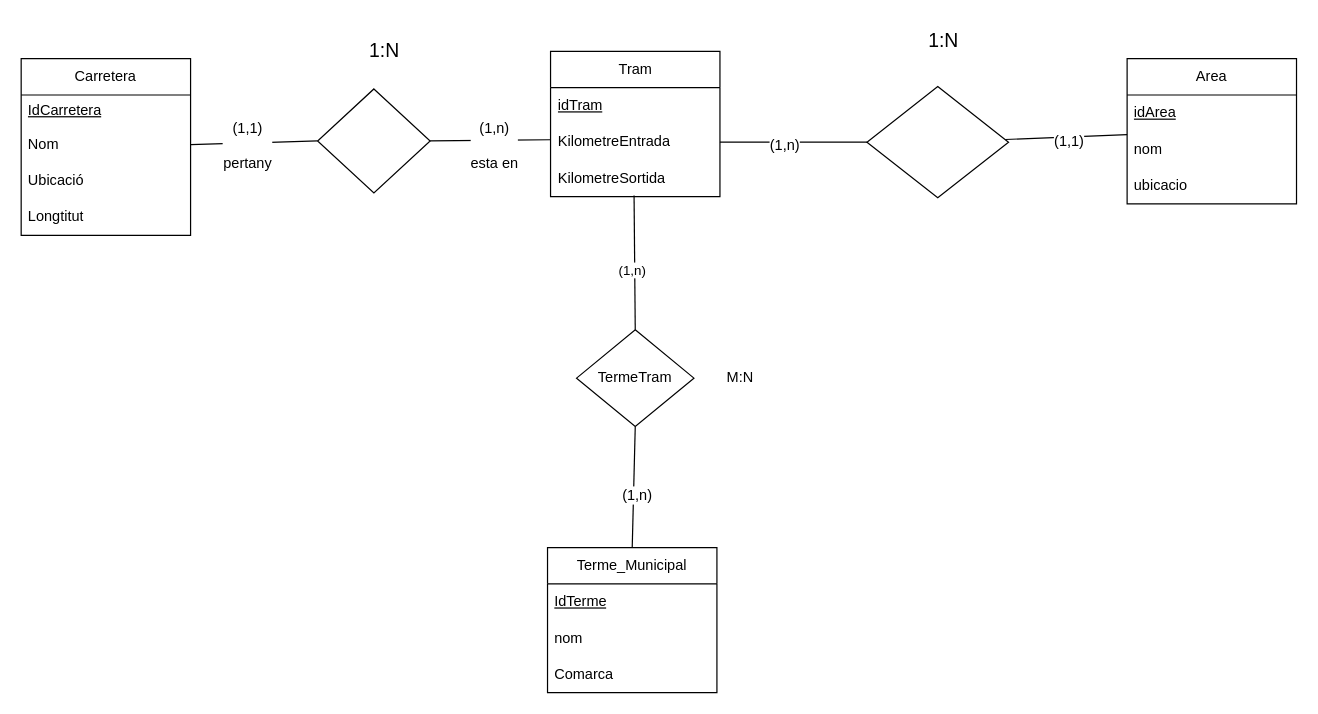
Some shapes in this 1318 by 714 pixel diagram are drawn without their labels. Each missing label, with the centre of its shape:
E .............: the point at 373,140
E .....................: the point at 937,141
